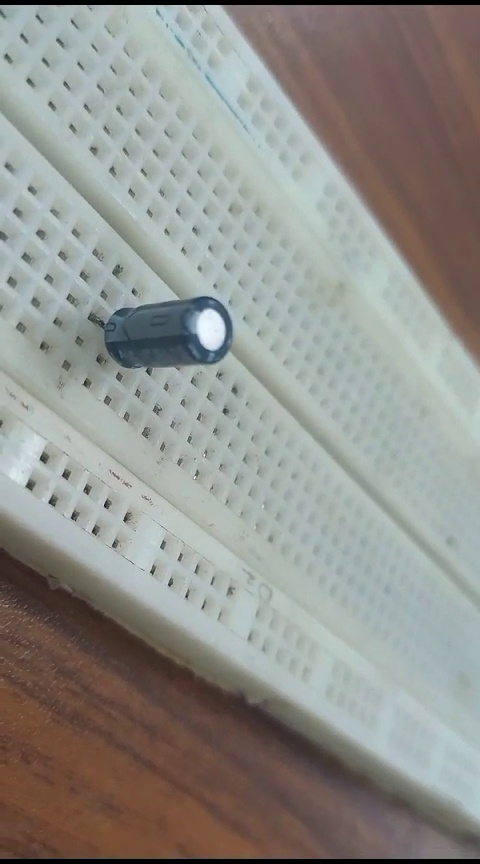capacitor: (87, 288, 231, 380)
